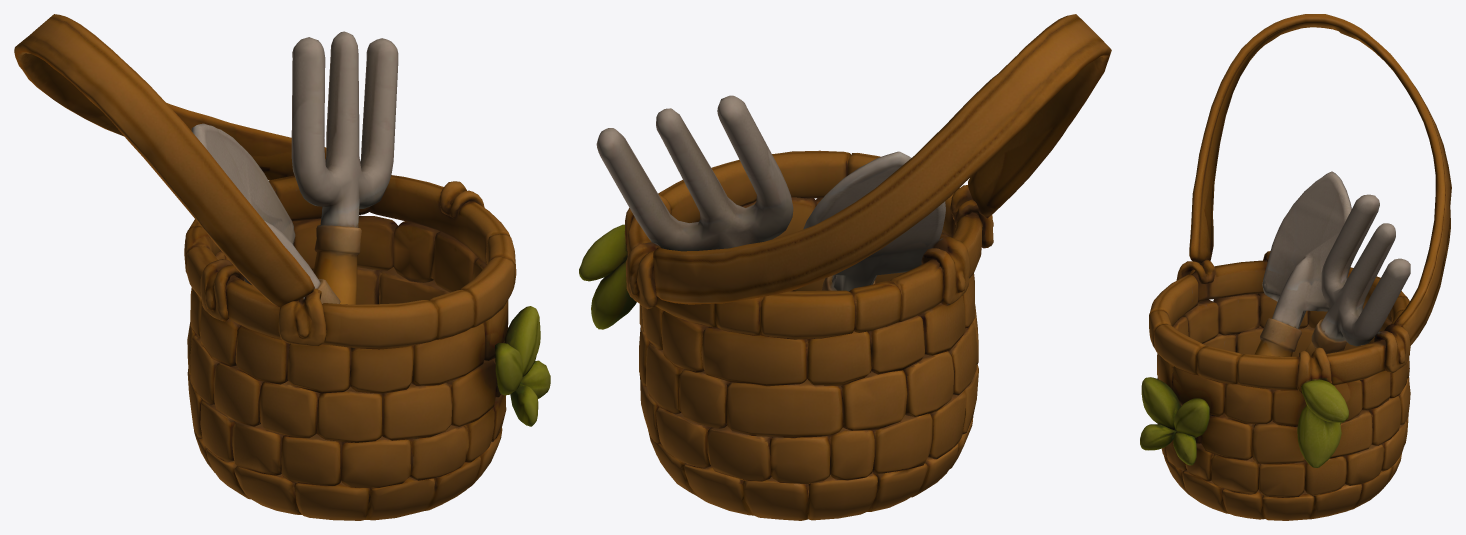
Rendered from mem_ac_gardenbasket.fbx.
The picture shows the model from 3 angles, left to right: view 1: azimuth 30°, elevation 25°; view 2: azimuth 150°, elevation 25°; view 3: azimuth 270°, elevation 25°; orthographic projection. The views are drawn at different scales.
Parts seen in each view (by area): view 1: tripo_node_3a16e0af-6670-416c-a23a-b12ea5c8efa5; view 2: tripo_node_3a16e0af-6670-416c-a23a-b12ea5c8efa5; view 3: tripo_node_3a16e0af-6670-416c-a23a-b12ea5c8efa5.
Part boxes in pixels (left/top/right/bottom): tripo_node_3a16e0af-6670-416c-a23a-b12ea5c8efa5: left=14, top=14, right=550, bottom=520; tripo_node_3a16e0af-6670-416c-a23a-b12ea5c8efa5: left=579, top=14, right=1111, bottom=520; tripo_node_3a16e0af-6670-416c-a23a-b12ea5c8efa5: left=1140, top=14, right=1451, bottom=520.
Size of the model in its own units: 0.9785 by 0.998 by 0.752.
1 material, 1 textured.
